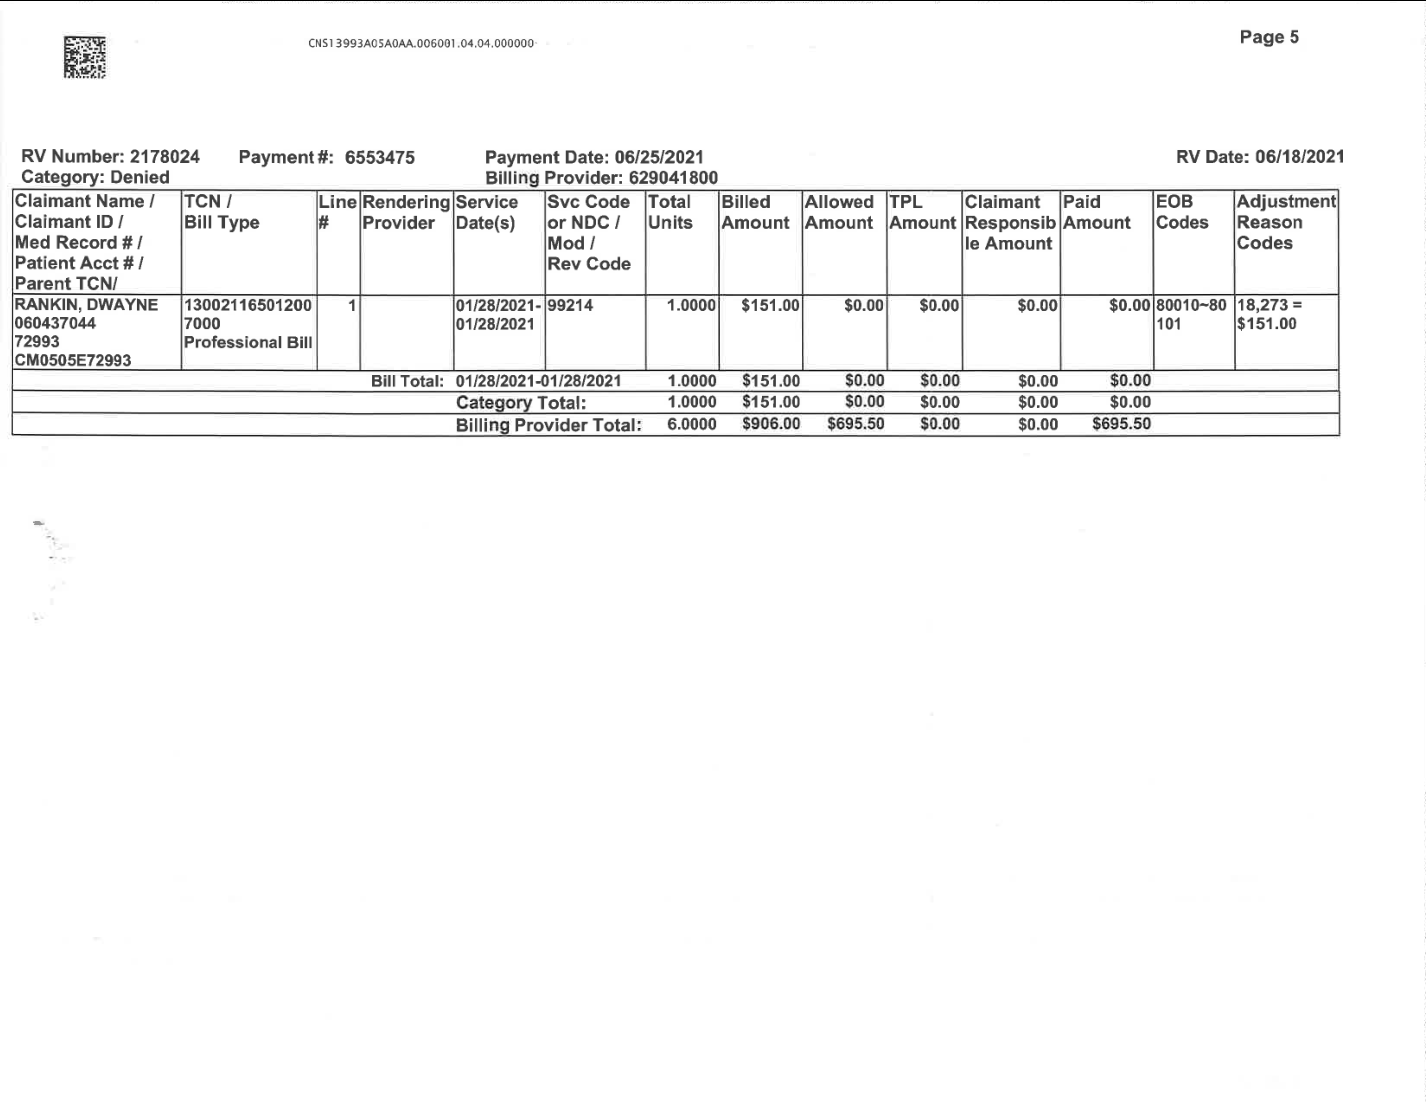data: (475, 135, 732, 190)
table: (6, 181, 1353, 451)
